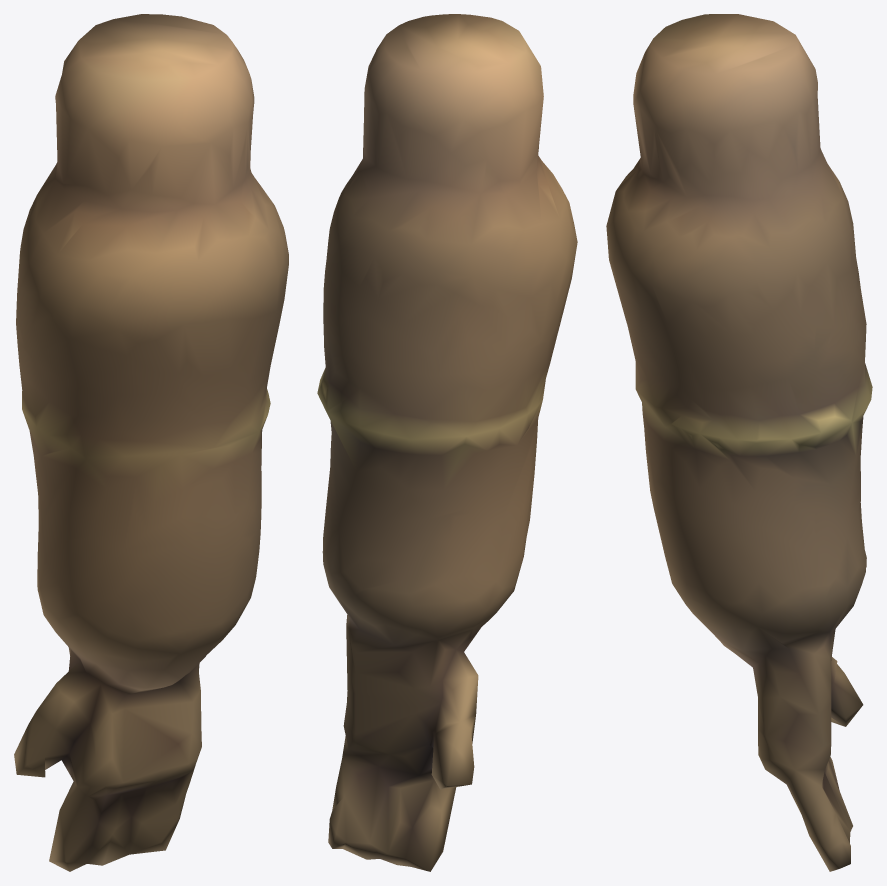
The model's file is hero_farm_r.glb.
The picture shows the model from 3 angles, left to right: view 1: azimuth 30°, elevation 25°; view 2: azimuth 150°, elevation 25°; view 3: azimuth 270°, elevation 25°; orthographic projection. The views are drawn at different scales.
Parts seen in each view (by area): view 1: geometry_0; view 2: geometry_0; view 3: geometry_0.
Part boxes in pixels (x1,y1,x2,y2): geometry_0: (14,14,288,871); geometry_0: (317,14,577,871); geometry_0: (606,14,872,871).
Bounding box in the file's own units: 0.1106 × 0.3836 × 0.1158.
